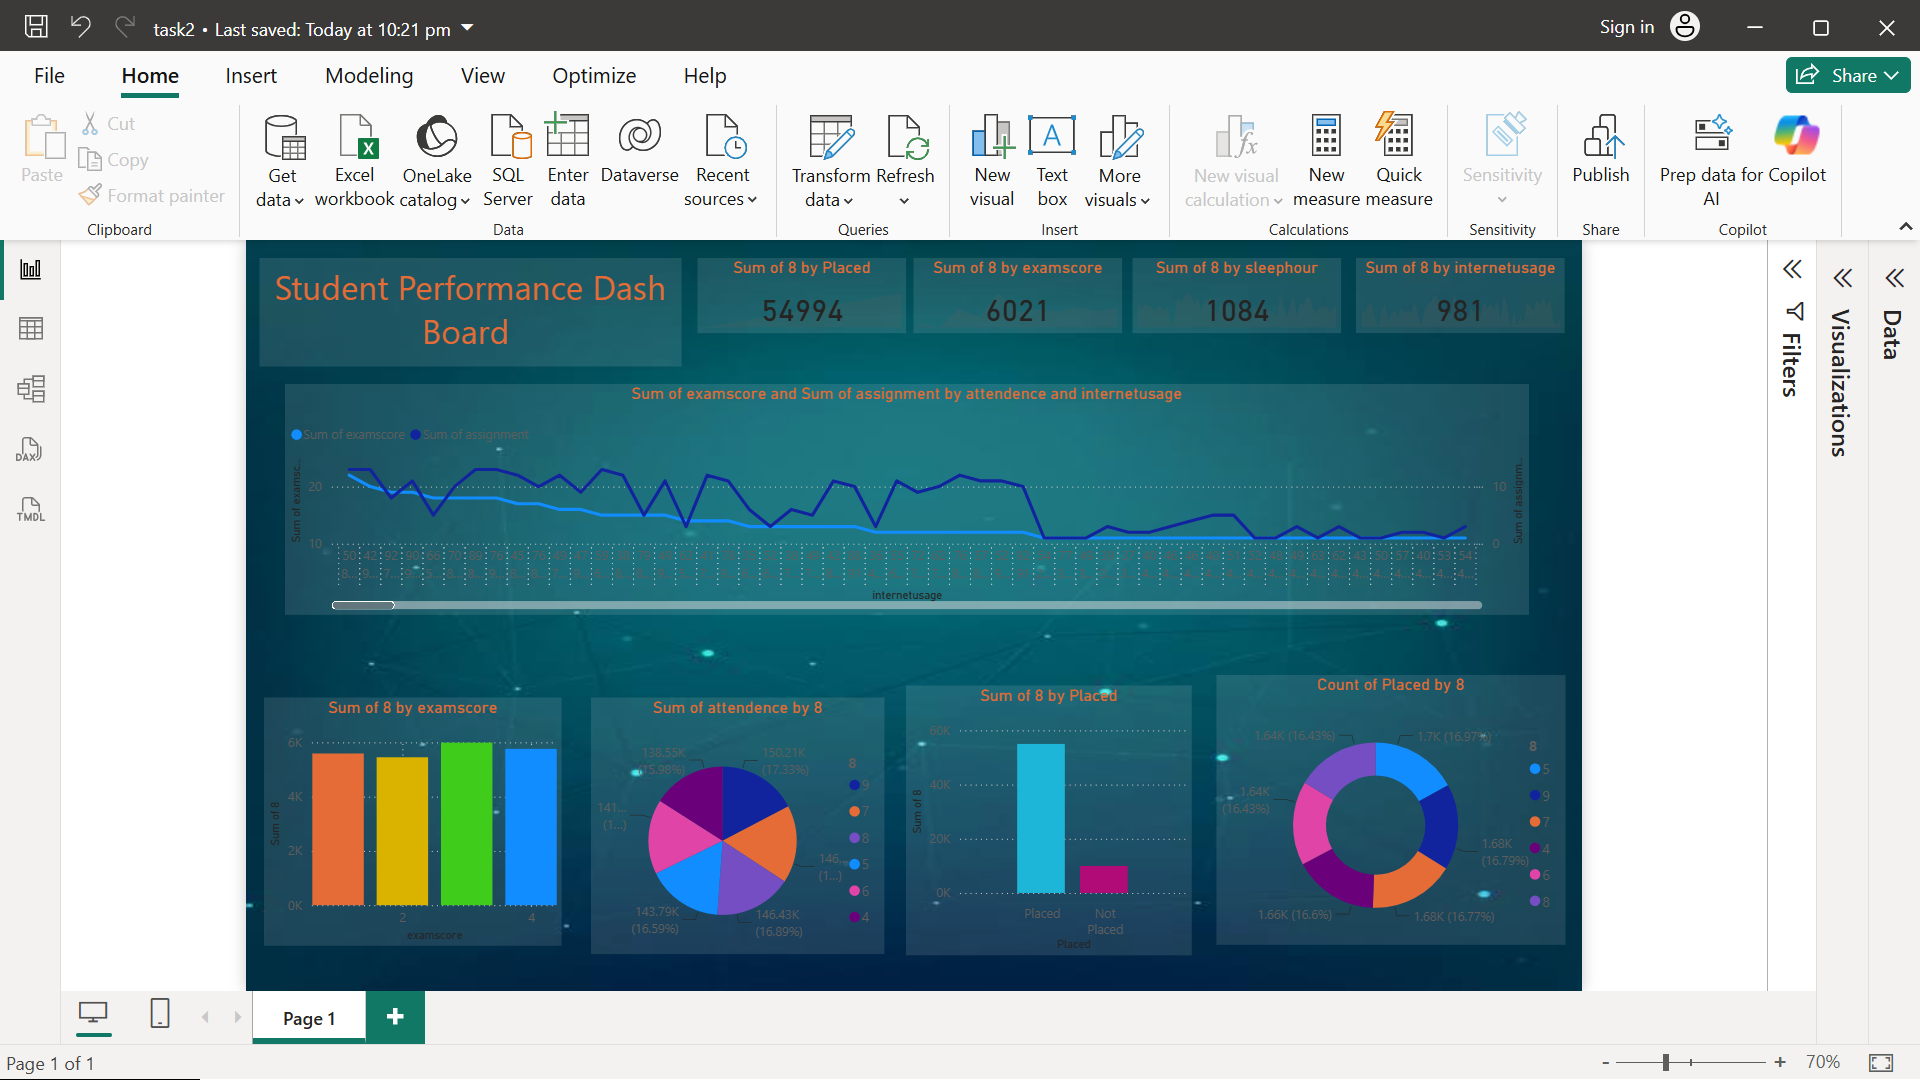

This screenshot's page, from the dashboard's own definition file:
{"tool":"powerbi","page":{"name":"Page 1","canvas":[1280,720],"ordinal":0},"visuals":[{"type":"clusteredColumnChart","fields":{"Category":["student_dataset_10000_rows.examscore"],"Y":["Sum(student_dataset_10000_rows.8)"]},"box":[17,438.4,285.4,238.1],"z":0},{"type":"pieChart","fields":{"Category":["student_dataset_10000_rows.8"],"Y":["Sum(student_dataset_10000_rows.attendence)"]},"box":[330.7,438.4,281.6,245.7],"z":1},{"type":"columnChart","fields":{"Category":["student_dataset_10000_rows.Placed"],"Y":["Sum(student_dataset_10000_rows.8)"]},"box":[633.1,427.1,274,258.9],"z":2},{"type":"lineChart","fields":{"Category":["student_dataset_10000_rows.attendence","student_dataset_10000_rows.internetusage"],"Y":["Sum(student_dataset_10000_rows.examscore)"],"Y2":["Sum(student_dataset_10000_rows.assignment)"]},"box":[37.8,138,1192.5,221.1],"z":3},{"type":"textbox","box":[13.2,17,404.4,103.9],"z":4},{"type":"kpi","fields":{"TrendLine":["student_dataset_10000_rows.Placed"],"Indicator":["Sum(student_dataset_10000_rows.8)"]},"box":[432.8,17,200.3,71.8],"z":5},{"type":"kpi","fields":{"TrendLine":["student_dataset_10000_rows.sleephour"],"Indicator":["Sum(student_dataset_10000_rows.8)"]},"box":[850.4,17,200.3,71.8],"z":6},{"type":"kpi","fields":{"TrendLine":["student_dataset_10000_rows.examscore"],"Indicator":["Sum(student_dataset_10000_rows.8)"]},"box":[640.6,17,200.3,71.8],"z":7},{"type":"kpi","fields":{"TrendLine":["student_dataset_10000_rows.internetusage"],"Indicator":["Sum(student_dataset_10000_rows.8)"]},"box":[1063.9,17,200.3,71.8],"z":8},{"type":"donutChart","fields":{"Category":["student_dataset_10000_rows.8","student_dataset_10000_rows.examscore"],"Y":["CountNonNull(student_dataset_10000_rows.Placed)"]},"box":[929.8,417.6,334.5,258.9],"z":9}]}

Visuals, with their boxes on the page's 1280x720 design canvas (x1, y1, x2, y2). These are canvas units, not pixel positions in the 1920x1080 screenshot, which may show the page scaled, cropped or inside an application window:
clusteredColumnChart - student_dataset_10000_rows.examscore x Sum(student_dataset_10000_rows.8): l=17, t=438, r=302, b=676
pieChart - student_dataset_10000_rows.8 x Sum(student_dataset_10000_rows.attendence): l=331, t=438, r=612, b=684
columnChart - student_dataset_10000_rows.Placed x Sum(student_dataset_10000_rows.8): l=633, t=427, r=907, b=686
lineChart - student_dataset_10000_rows.attendence x student_dataset_10000_rows.internetusage: l=38, t=138, r=1230, b=359
textbox: l=13, t=17, r=418, b=121
kpi - student_dataset_10000_rows.Placed x Sum(student_dataset_10000_rows.8): l=433, t=17, r=633, b=89
kpi - student_dataset_10000_rows.sleephour x Sum(student_dataset_10000_rows.8): l=850, t=17, r=1051, b=89
kpi - student_dataset_10000_rows.examscore x Sum(student_dataset_10000_rows.8): l=641, t=17, r=841, b=89
kpi - student_dataset_10000_rows.internetusage x Sum(student_dataset_10000_rows.8): l=1064, t=17, r=1264, b=89
donutChart - student_dataset_10000_rows.8 x student_dataset_10000_rows.examscore: l=930, t=418, r=1264, b=676
